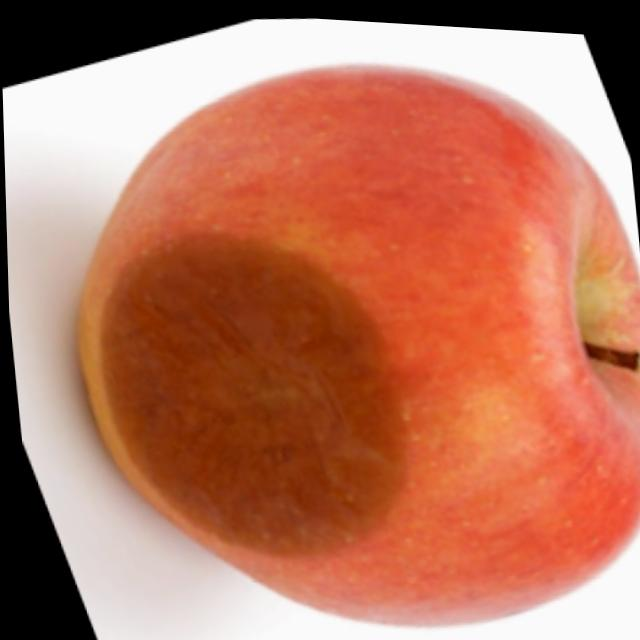organik: (29, 1, 640, 640)
